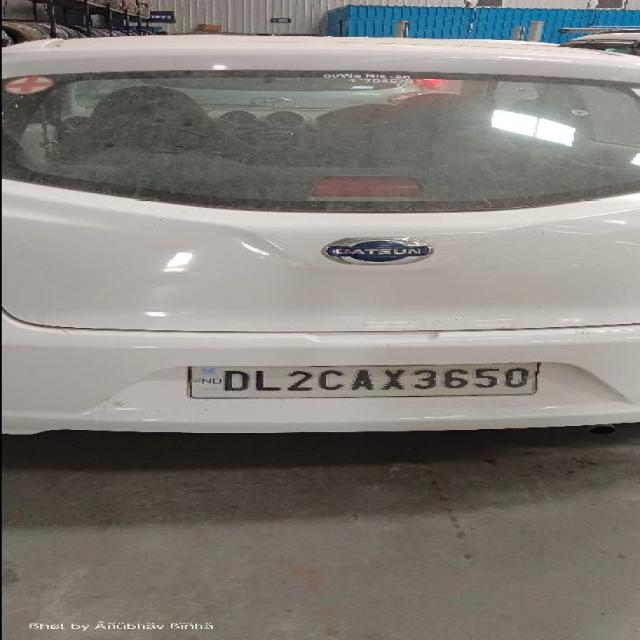license_plate: (185, 361, 539, 398)
